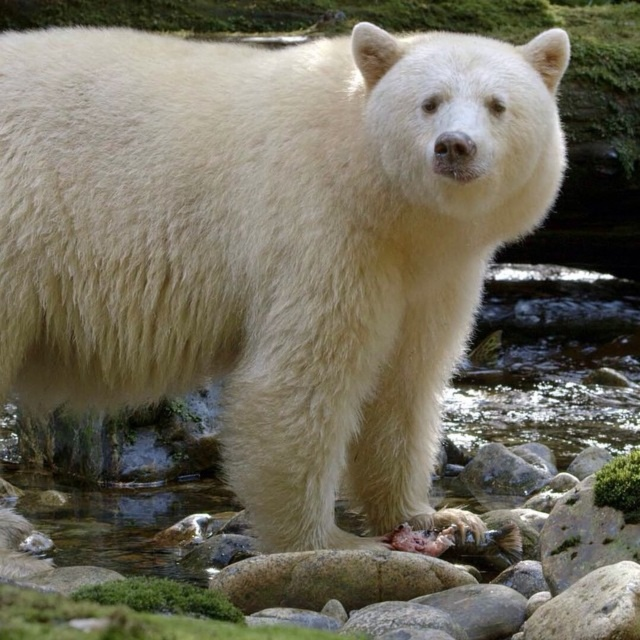Polar bear: (0, 19, 567, 555)
